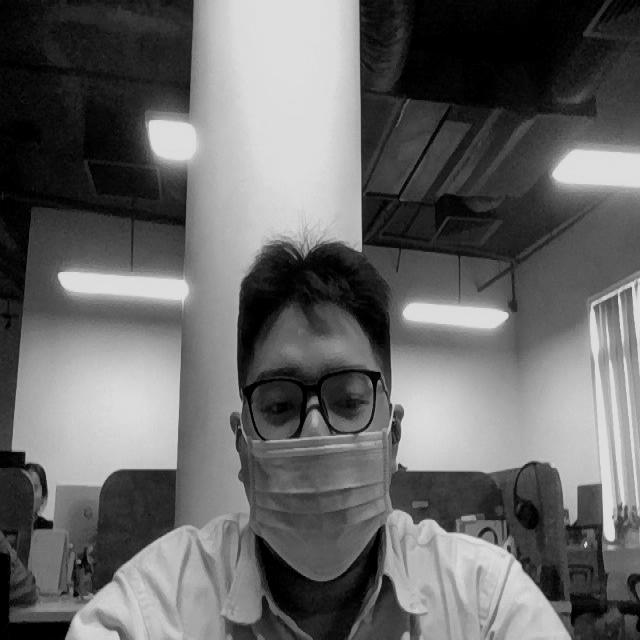fake: (227, 411, 399, 584)
real: (225, 228, 405, 594), (240, 367, 385, 438)
